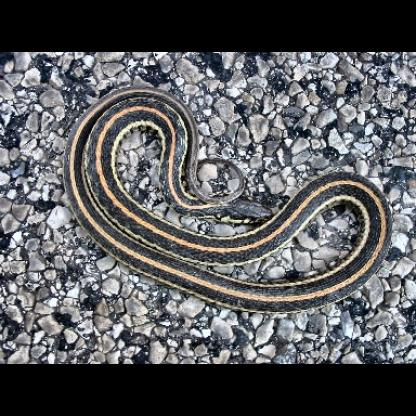Snake: (59, 82, 392, 306)
